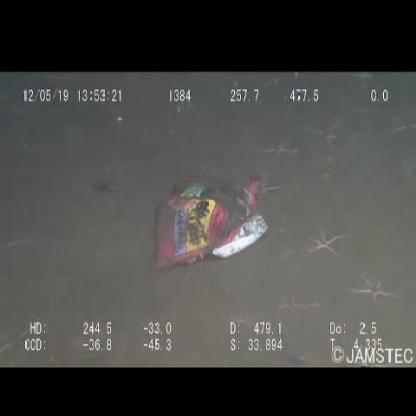Rác: (151, 168, 272, 270)
